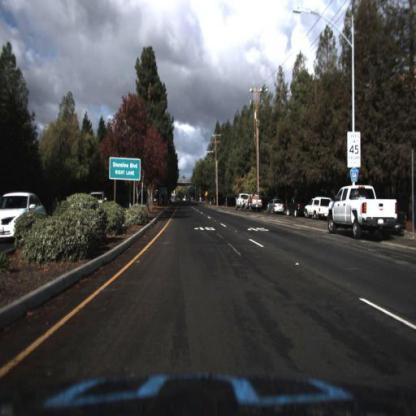car: (331, 185, 398, 241), (1, 192, 47, 244), (303, 195, 332, 221), (306, 198, 335, 221), (286, 199, 304, 220), (271, 196, 287, 216), (268, 198, 285, 215)
truck: (244, 195, 263, 212), (236, 194, 250, 210)
